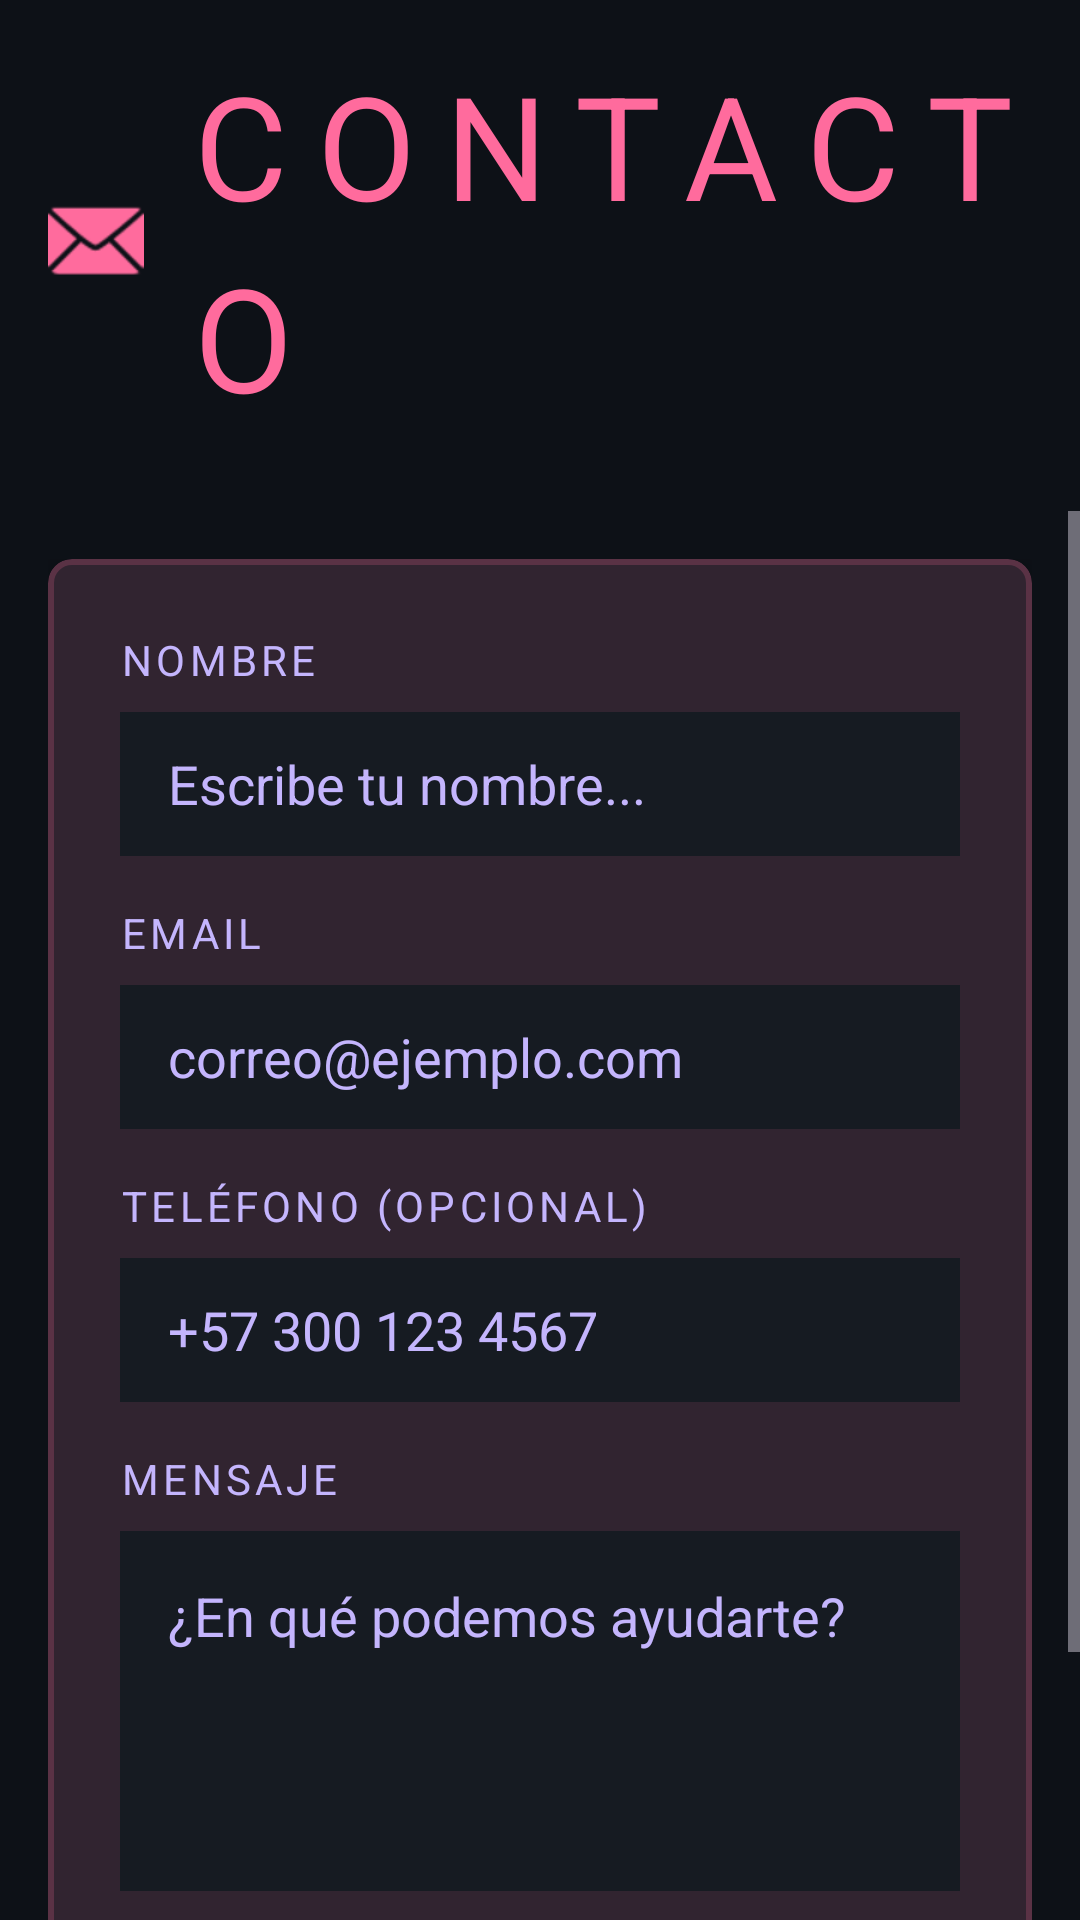

Locate icon controls on the screen. Image size 1080 x 1920, boxes as bbox=[x1, y1, x2, y2].
email: bbox=[48, 207, 144, 275]
